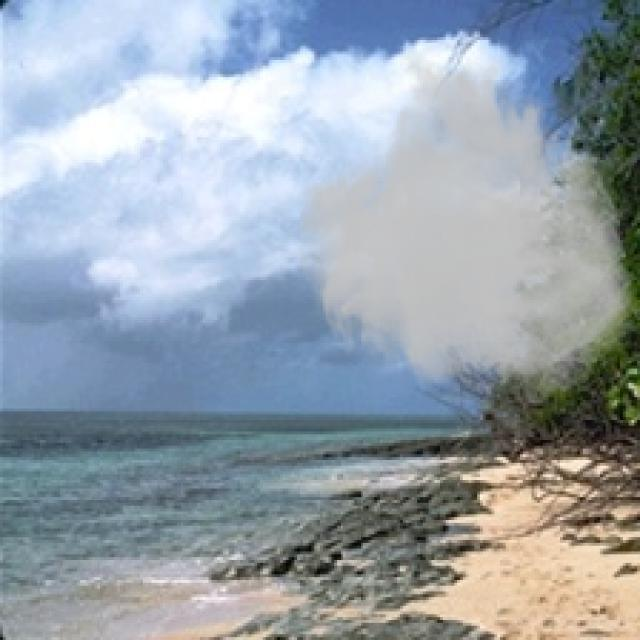smoke: (294, 46, 637, 406)
